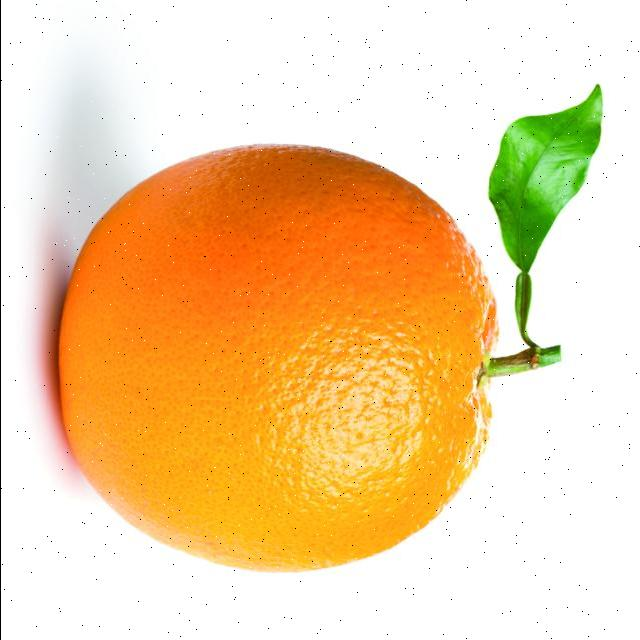Orange: (56, 142, 503, 573)
